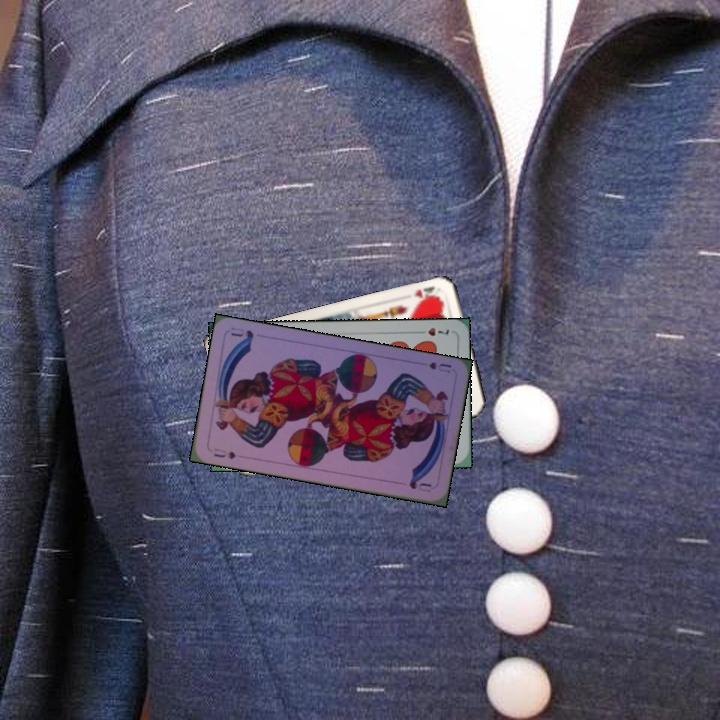H7: (412, 324, 452, 339)
HK: (409, 282, 442, 304)
SU: (425, 358, 454, 376), (210, 444, 238, 462)
